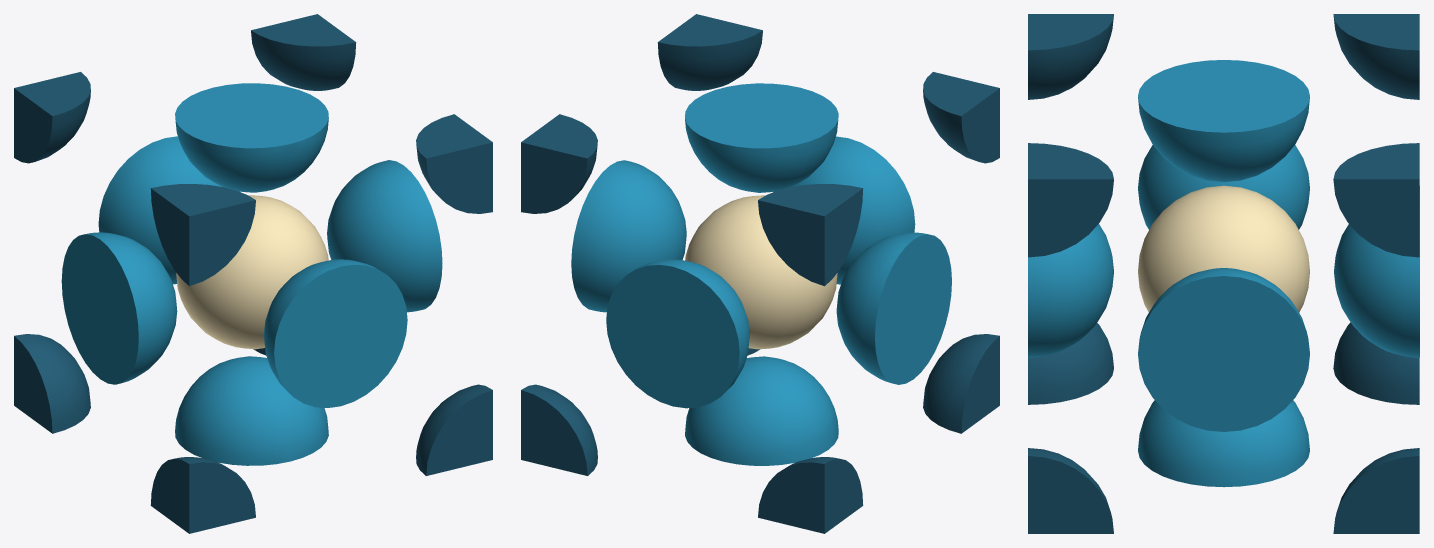
Rendered from jingbao1.gltf.
3 views of the same model, side by side, from view 1: azimuth 30°, elevation 25°; view 2: azimuth 150°, elevation 25°; view 3: azimuth 270°, elevation 25° (orthographic). The views are drawn at different scales.
Parts seen in each view (by area): view 1: Sphere085; view 2: Sphere085; view 3: Sphere085.
Boxes of the visible parts, x1=… form: Sphere085: x1=14, y1=14, x2=492, y2=533; Sphere085: x1=521, y1=14, x2=999, y2=533; Sphere085: x1=1028, y1=14, x2=1419, y2=533.
Bounding box in the file's own units: 50.22 × 50.02 × 50.07.
Materials: 3 (3 with a texture image).
